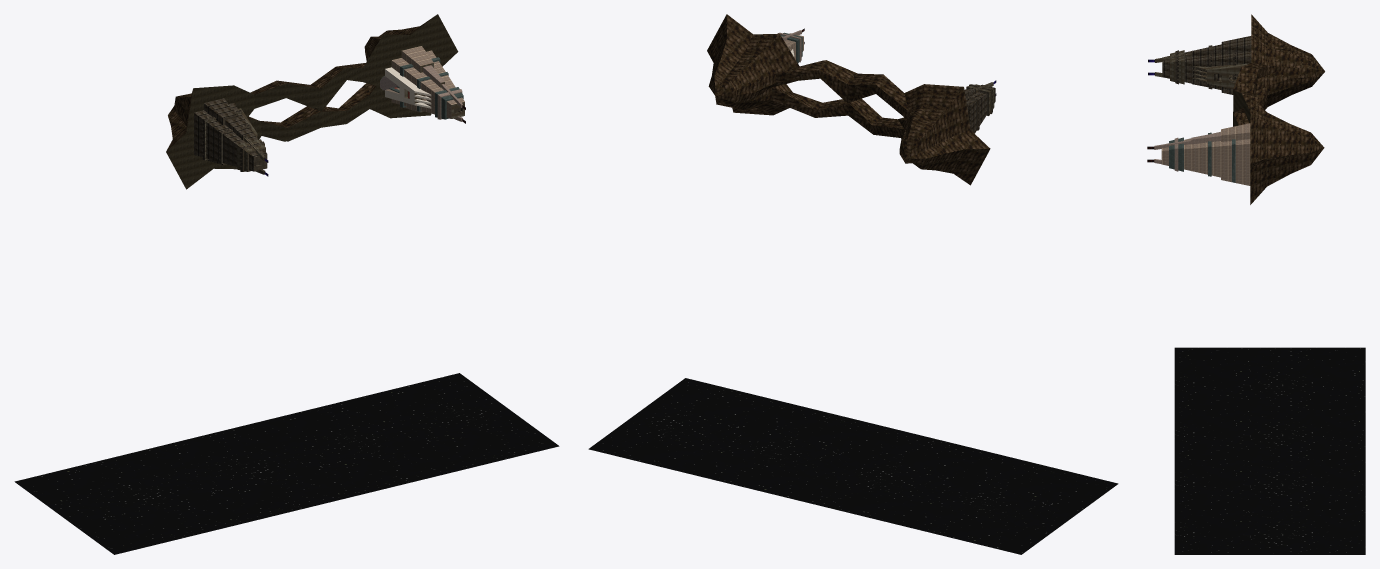
The model's file is CTF-Visage.obj.
The picture shows the model from 3 angles, left to right: view 1: azimuth 30°, elevation 25°; view 2: azimuth 150°, elevation 25°; view 3: azimuth 270°, elevation 25°; orthographic projection. The views are drawn at different scales.
Bounding box in the file's own units: 323 × 293 × 144.
Materials: 36 (36 with a texture image).
